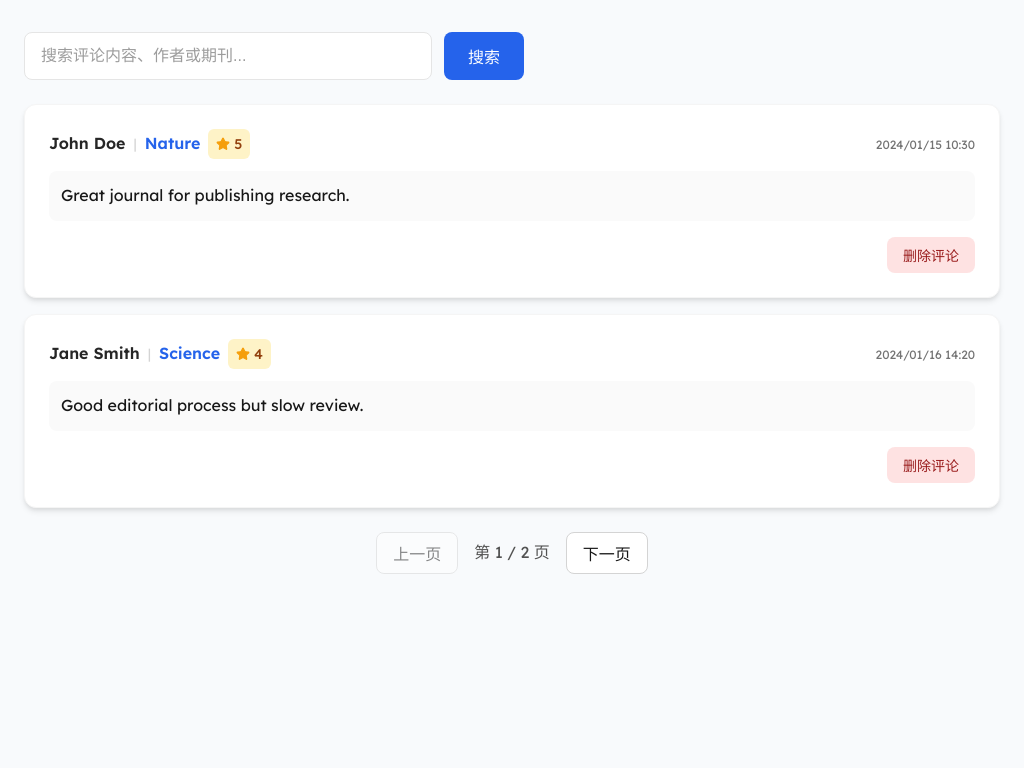
CommentManagement › displays error message on delete failure
The image size is (1024, 768).
Expected: the text "John Doe" is shown, [49,131,125,157]
Click the button "删除评论" below "2024/01/15 10:30" at (931, 255), box [887,237,975,273]
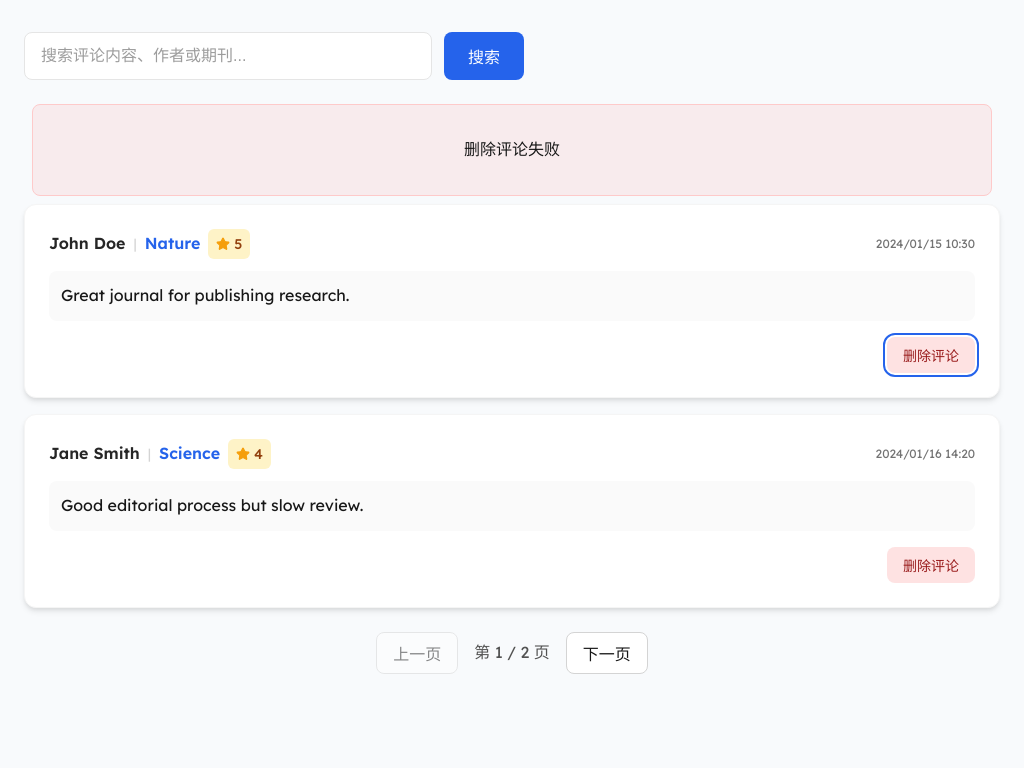
Now the text "删除评论失败" is shown, box [32,104,992,196]
